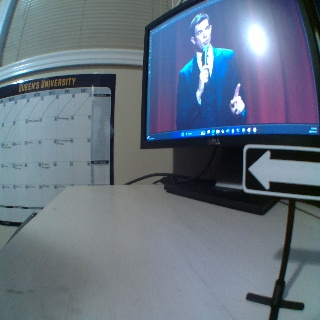sign_oneway_left: (243, 143, 319, 199)
